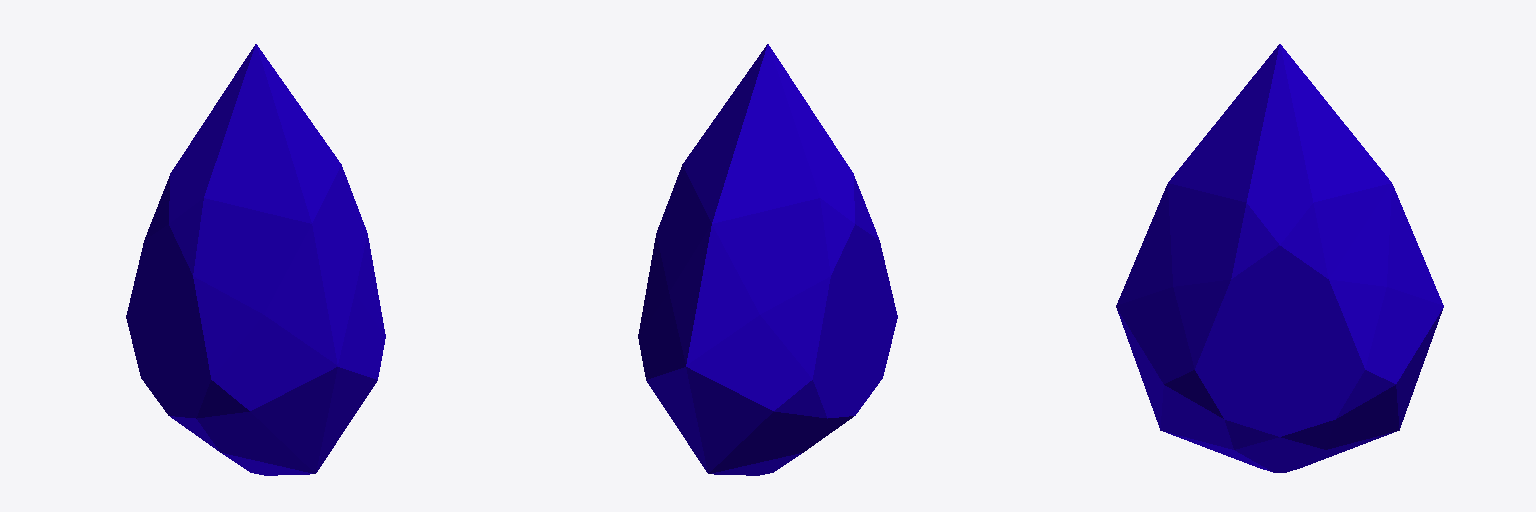
Rendered from Gem4.obj.
3 views of the same model, side by side, from view 1: azimuth 30°, elevation 25°; view 2: azimuth 150°, elevation 25°; view 3: azimuth 270°, elevation 25° (orthographic).
Parts seen in each view (by area): view 1: Gem.003_Shape002.003; view 2: Gem.003_Shape002.003; view 3: Gem.003_Shape002.003.
Boxes of the visible parts, x1=… form: Gem.003_Shape002.003: x1=126, y1=44, x2=385, y2=475; Gem.003_Shape002.003: x1=638, y1=44, x2=897, y2=475; Gem.003_Shape002.003: x1=1116, y1=44, x2=1443, y2=472.
Size of the model in its own units: 0.4371 by 1.02 by 0.7109.